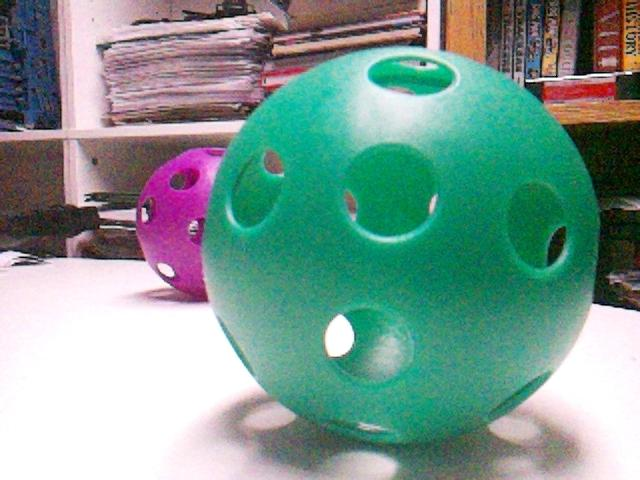Green: (205, 48, 596, 443)
Purple: (134, 147, 227, 298)
